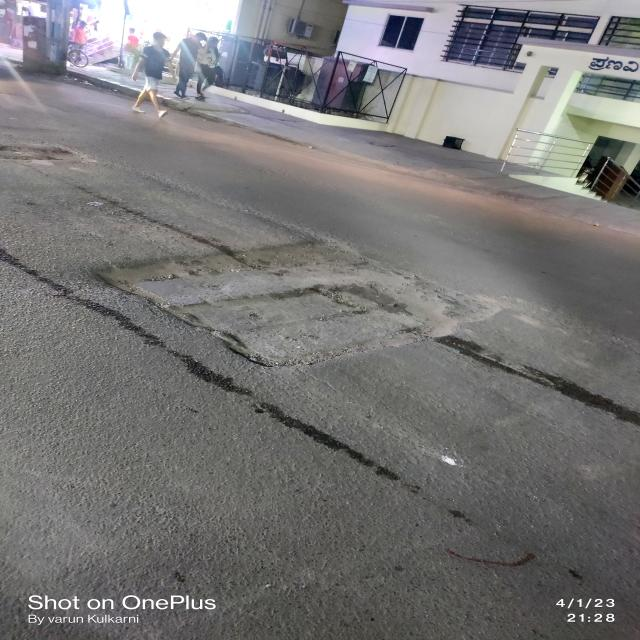manhole: (88, 248, 493, 364)
